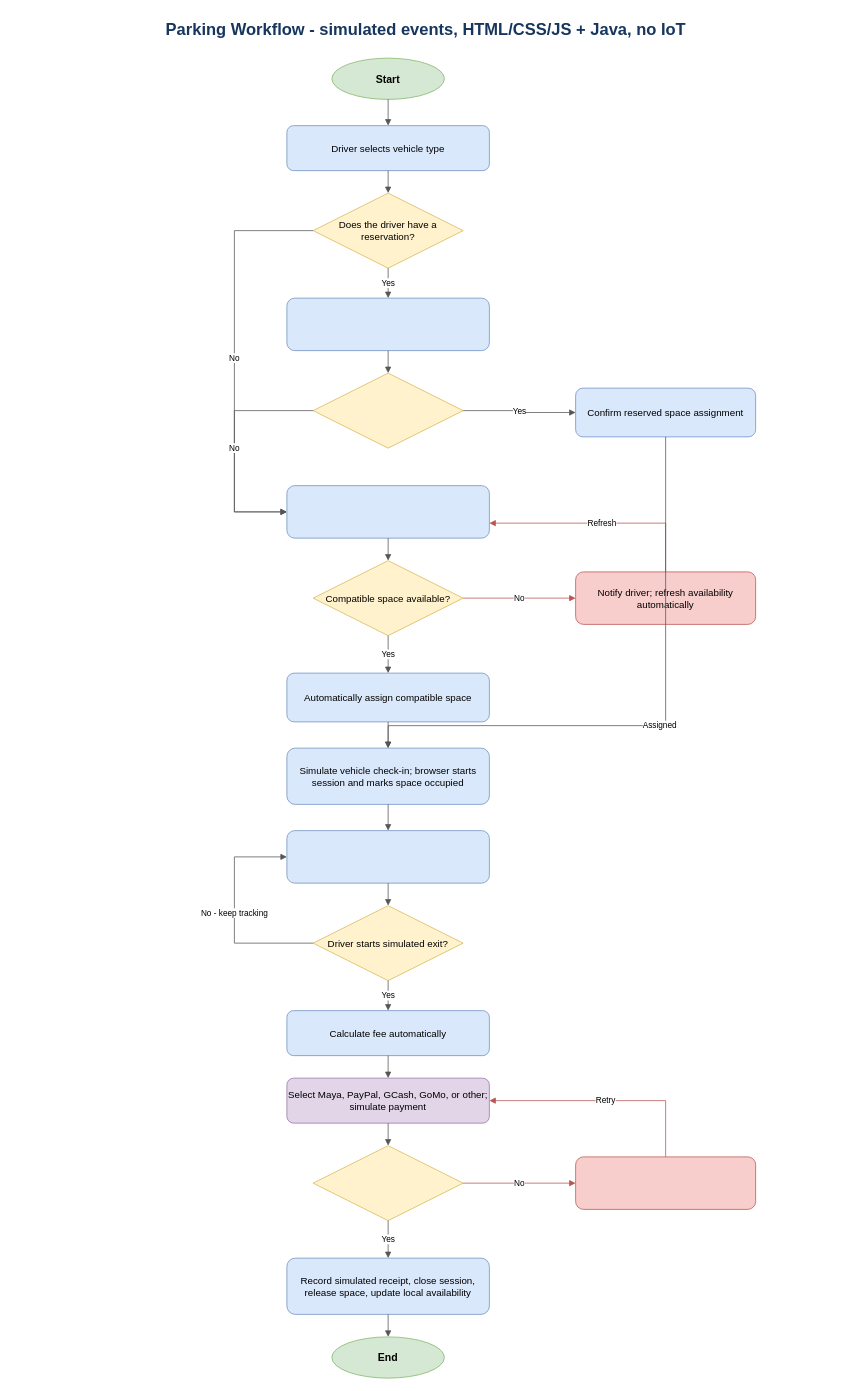
Some shapes in this 851 by 1391 pixel diagram are drawn without their labels. Here are the shapes that lost their labels. From the top down, the centre of each, then its label:
At point (387, 324): "System verifies reservation is active and matches vehicle type".
At point (387, 410): "Reservation valid?".
At point (387, 511): "System checks for an available compatible space".
At point (387, 856): "Track parking time and send time-limit reminder automatically".
At point (387, 1183): "Payment confirmed?".
At point (665, 1182): "Notify driver and retry payment".
